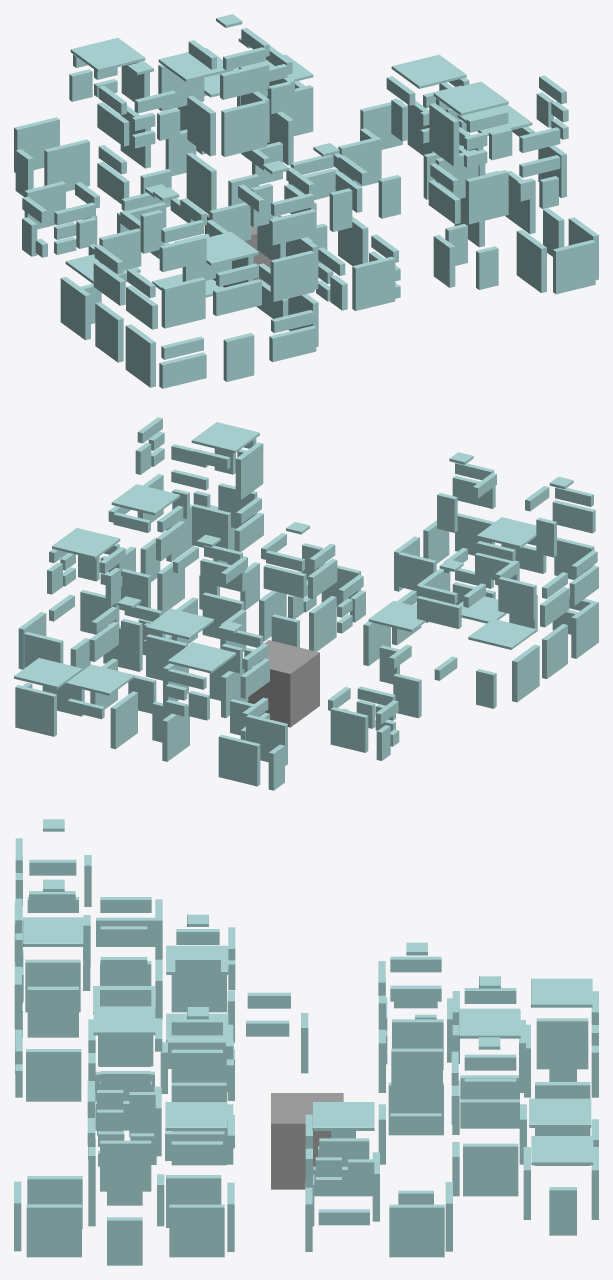
The model's file is glass.fbx.
3 views of the same model, one above another, from view 1: azimuth 30°, elevation 25°; view 2: azimuth 150°, elevation 25°; view 3: azimuth 270°, elevation 25° (orthographic). The views are drawn at different scales.
Visible parts, largest first — view 1: pCube183, pCube256, pCube258, pCube196, pCube217, polySurface1071, pCube257, polySurface1096, polySurface1089, polySurface1087, polySurface1090, polySurface1091 (+77 smaller); view 2: pCube170, pCube171, pCube214, polySurface1084, backnurbsCube2, polySurface1089, polySurface1094, pCube245, rightnurbsCube2, pCube265, polySurface1071, pCube251 (+75 smaller); view 3: pCube211, pCube228, pCube212, pCube195, pCube224, pCube179, pCube185, pCube222, pCube263, pCube200, frontnurbsCube2, pCube216 (+51 smaller).
Boxes of the visible parts, left/top/right/bottom form: pCube183: left=221, top=100, right=266, bottom=156; pCube256: left=465, top=170, right=508, bottom=224; pCube258: left=352, top=256, right=395, bottom=310; pCube196: left=132, top=90, right=180, bottom=148; pCube217: left=464, top=110, right=512, bottom=167; polySurface1071: left=220, top=47, right=269, bottom=99; pCube257: left=553, top=240, right=595, bottom=294; polySurface1096: left=213, top=263, right=261, bottom=316; polySurface1089: left=159, top=220, right=206, bottom=271; polySurface1087: left=269, top=193, right=316, bottom=245; polySurface1090: left=159, top=336, right=206, bottom=388; polySurface1091: left=269, top=310, right=316, bottom=362; pCube170: left=218, top=734, right=260, bottom=786; pCube171: left=15, top=685, right=56, bottom=736; pCube214: left=166, top=669, right=209, bottom=720; polySurface1084: left=263, top=550, right=306, bottom=598; backnurbsCube2: left=290, top=653, right=319, bottom=727; polySurface1089: left=552, top=487, right=595, bottom=533; polySurface1094: left=417, top=584, right=461, bottom=628; pCube245: left=330, top=707, right=368, bottom=752; rightnurbsCube2: left=248, top=669, right=290, bottom=727; pCube265: left=498, top=576, right=536, bottom=619; polySurface1071: left=200, top=545, right=245, bottom=592; pCube251: left=192, top=504, right=230, bottom=549; pCube211: left=169, top=1204, right=224, bottom=1257; pCube228: left=389, top=1204, right=444, bottom=1257; pCube212: left=26, top=1204, right=81, bottom=1257; pCube195: left=463, top=1143, right=518, bottom=1196; pCube224: left=26, top=1049, right=81, bottom=1101; pCube179: left=536, top=1018, right=588, bottom=1069; pCube185: left=391, top=1048, right=442, bottom=1099; pCube222: left=100, top=1140, right=151, bottom=1191; pCube263: left=27, top=986, right=78, bottom=1037; pCube200: left=460, top=1078, right=519, bottom=1128; frontnurbsCube2: left=271, top=1123, right=331, bottom=1189; pCube216: left=97, top=1071, right=155, bottom=1125.
Bounding box in the file's own units: 8.04 × 3.69 × 8.05.
